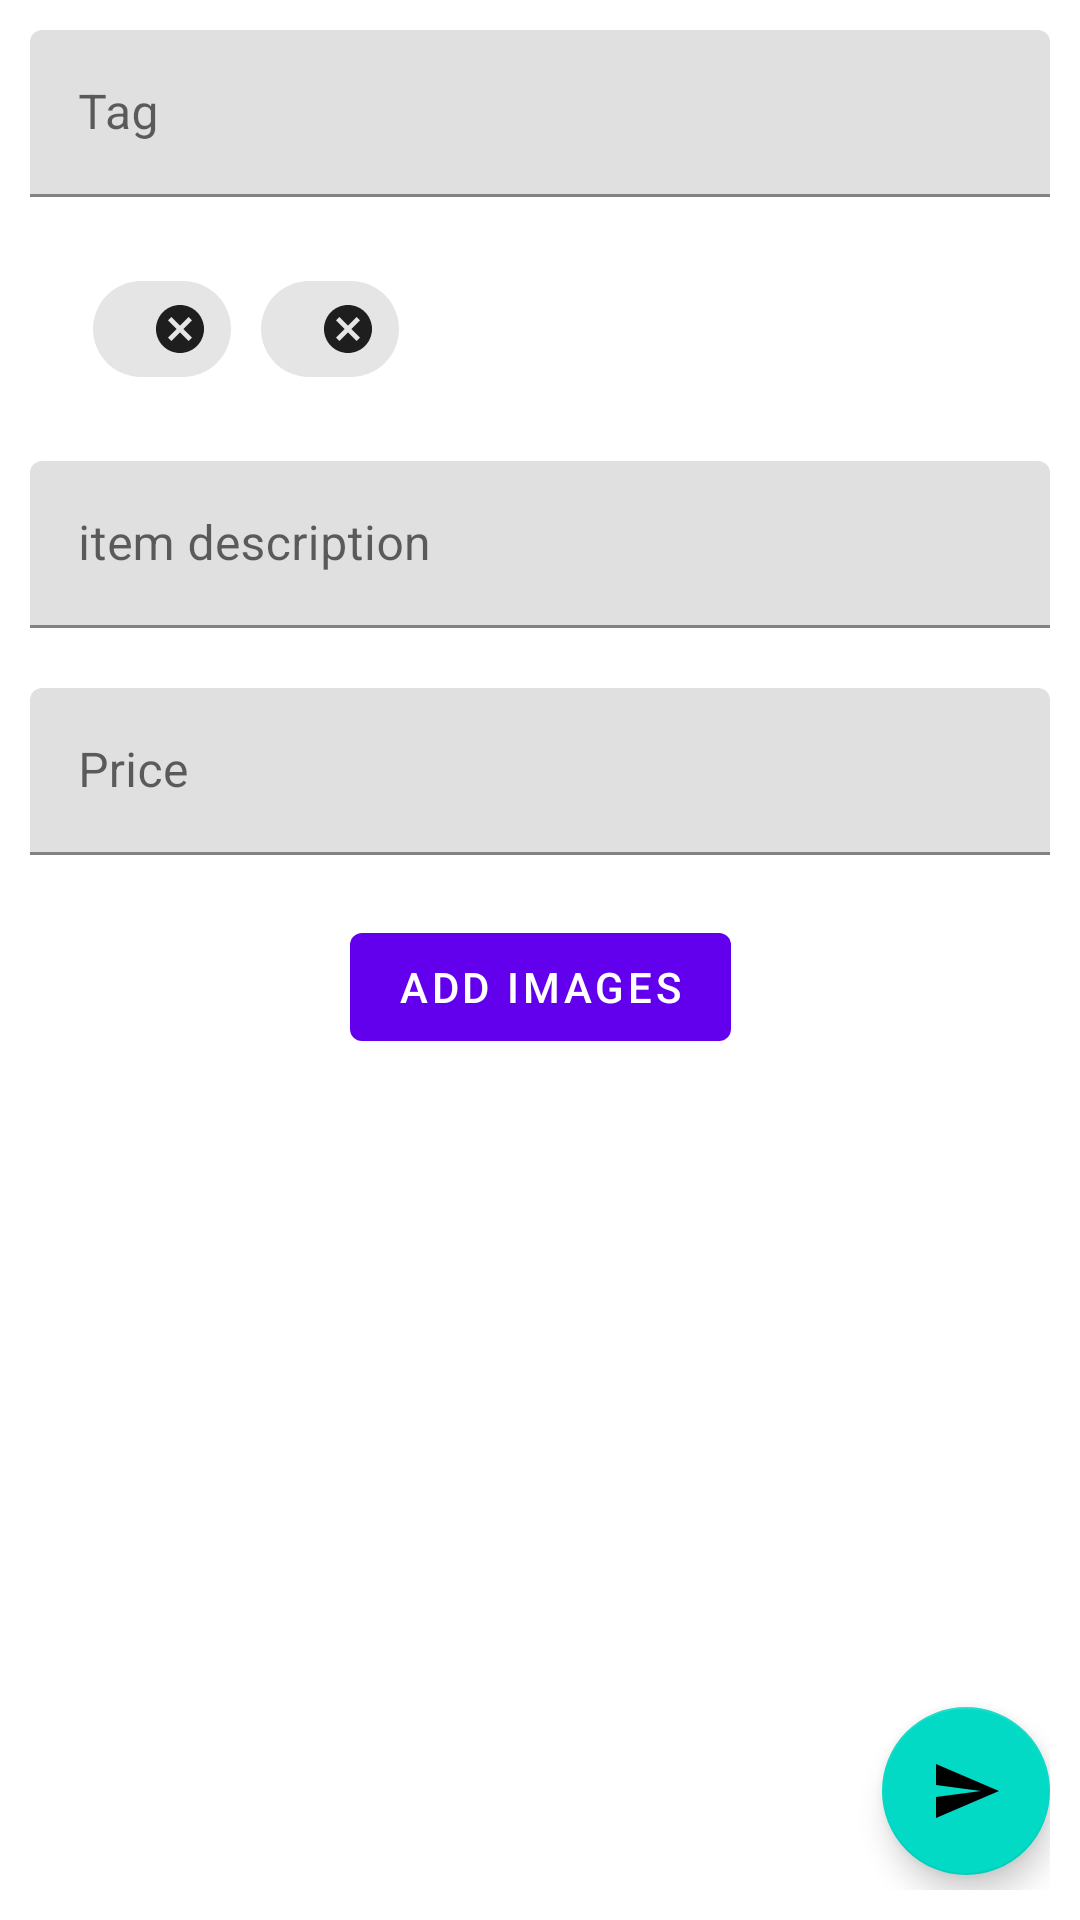

Icons on this 1080*1920 Android screen, each with its box as (x1, y1, x2, y2):
send: (882, 1707, 1050, 1875)
